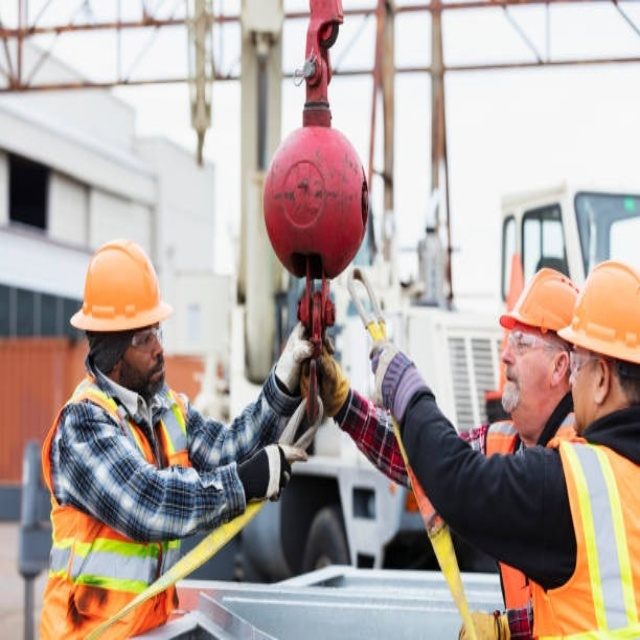Gafas: (507, 330, 563, 358), (567, 349, 604, 378), (126, 324, 164, 349)
Guantes: (370, 336, 440, 424), (235, 439, 313, 510), (313, 318, 351, 424), (276, 307, 312, 395)
Sin_mascara: (502, 361, 531, 413), (141, 356, 167, 391)
